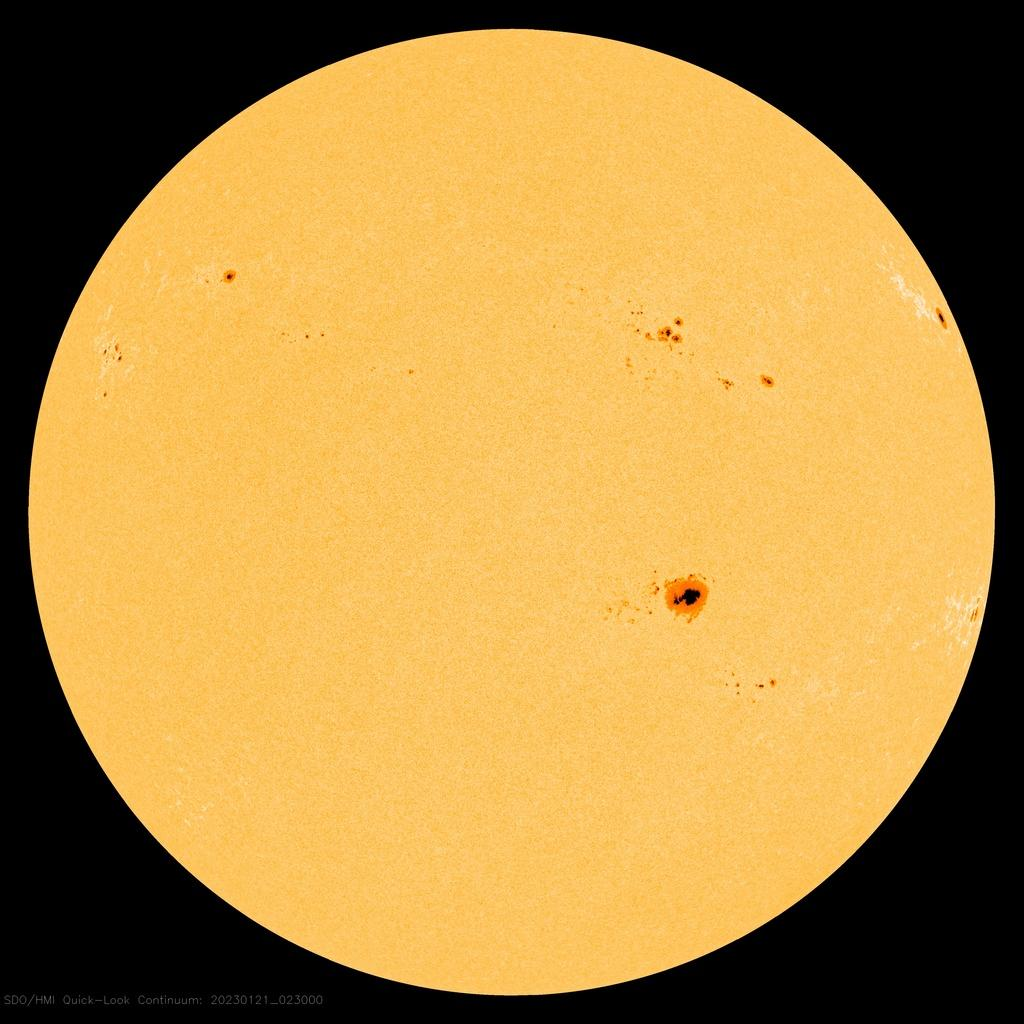flare: (618, 301, 780, 401), (598, 562, 722, 637), (90, 330, 138, 410), (720, 664, 785, 703), (212, 258, 248, 293), (961, 588, 987, 629), (932, 301, 955, 336)
